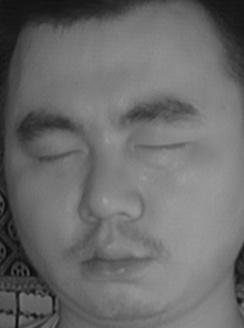blink: (131, 127, 193, 169), (33, 135, 86, 175)
mouth: (73, 229, 157, 287)
